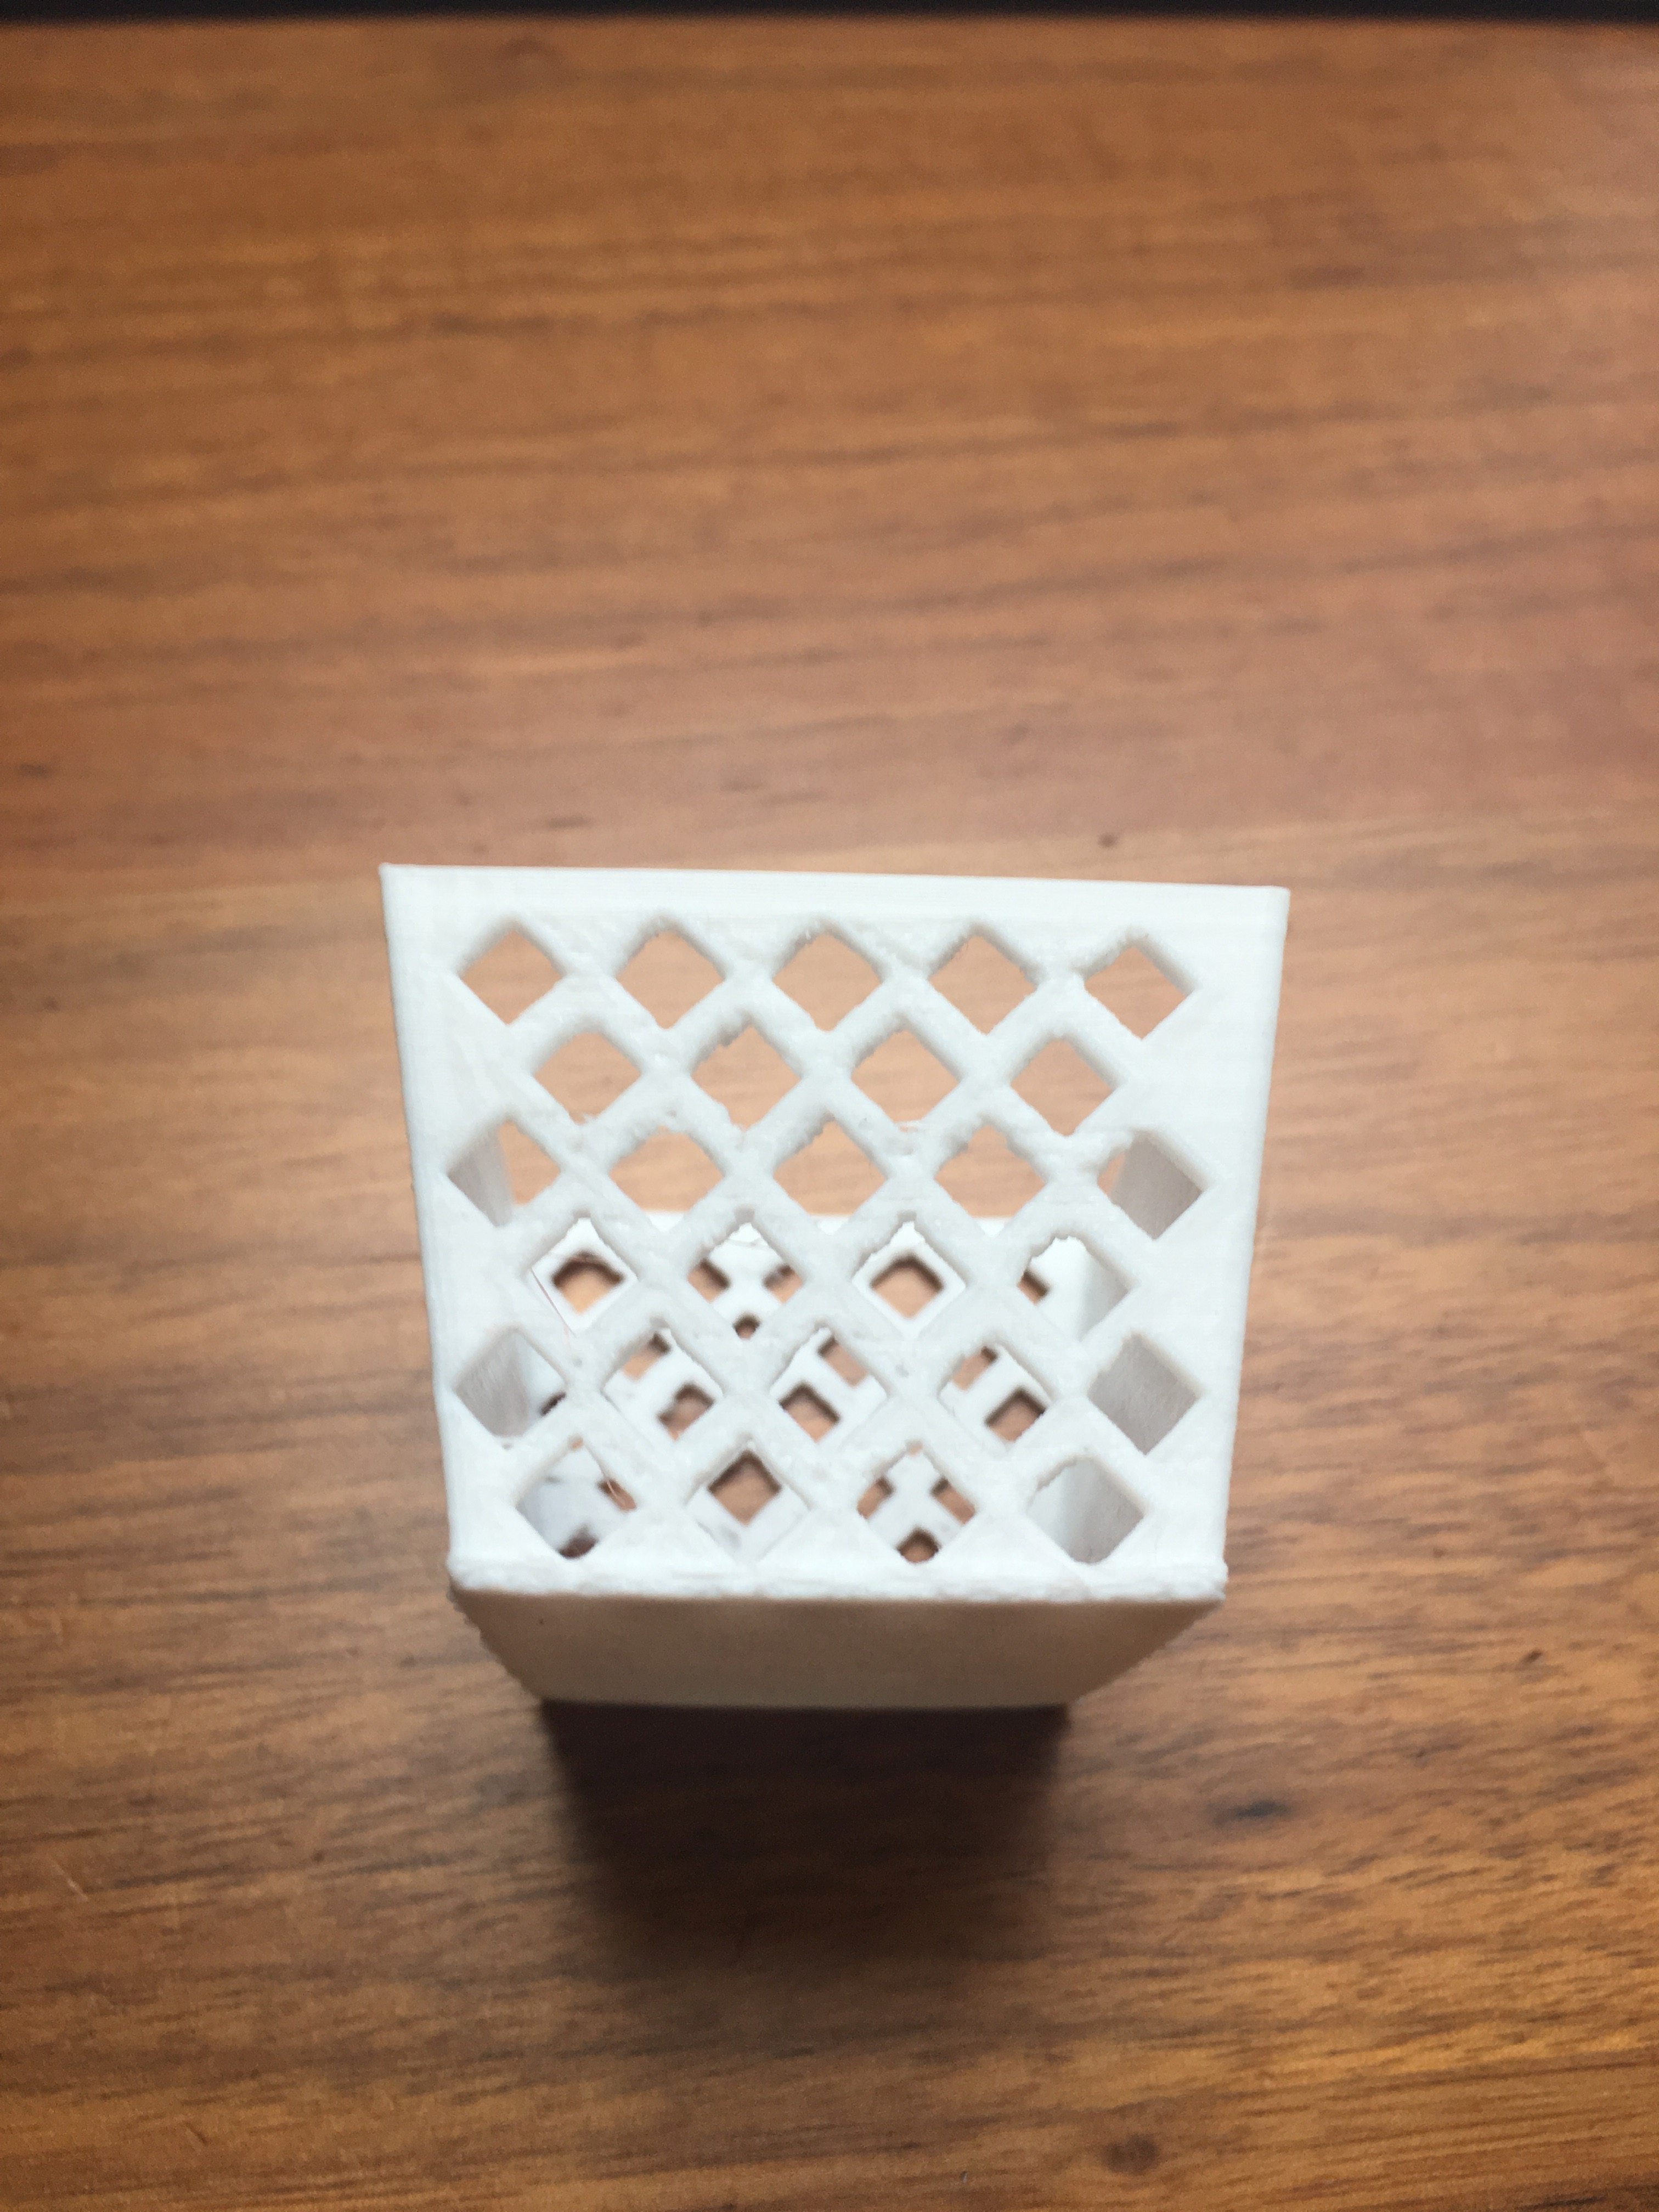3dpstringing: (455, 1404, 552, 1484), (864, 1089, 957, 1163), (525, 1231, 627, 1282), (704, 1219, 803, 1266)
3dpunderextrusion: (868, 916, 965, 1000), (852, 1318, 934, 1399), (779, 1453, 894, 1500), (709, 1118, 789, 1170), (622, 1014, 687, 1075), (1086, 1115, 1155, 1155)
